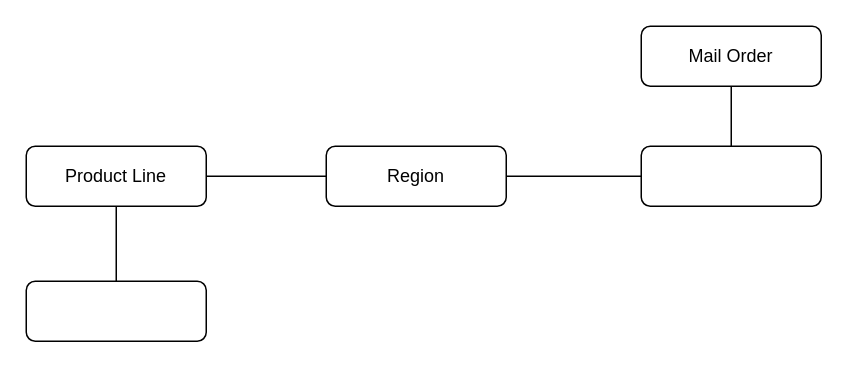
Image size: 848x368. Some labels were removed from this diagram. Each missing label, with the centre of its shape:
Customer Record: the point at 730,175
Product Category: the point at 115,310
